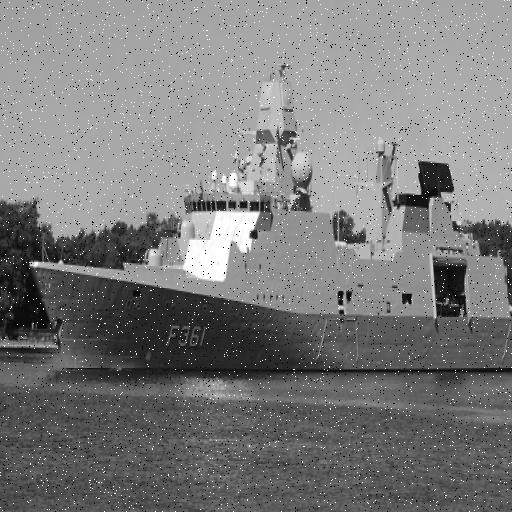Fragata: (25, 40, 512, 381)
